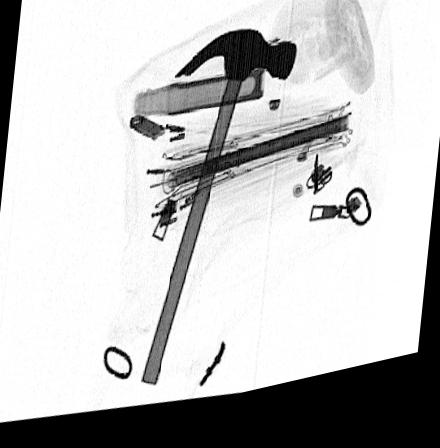Hammer: (141, 38, 297, 392)
